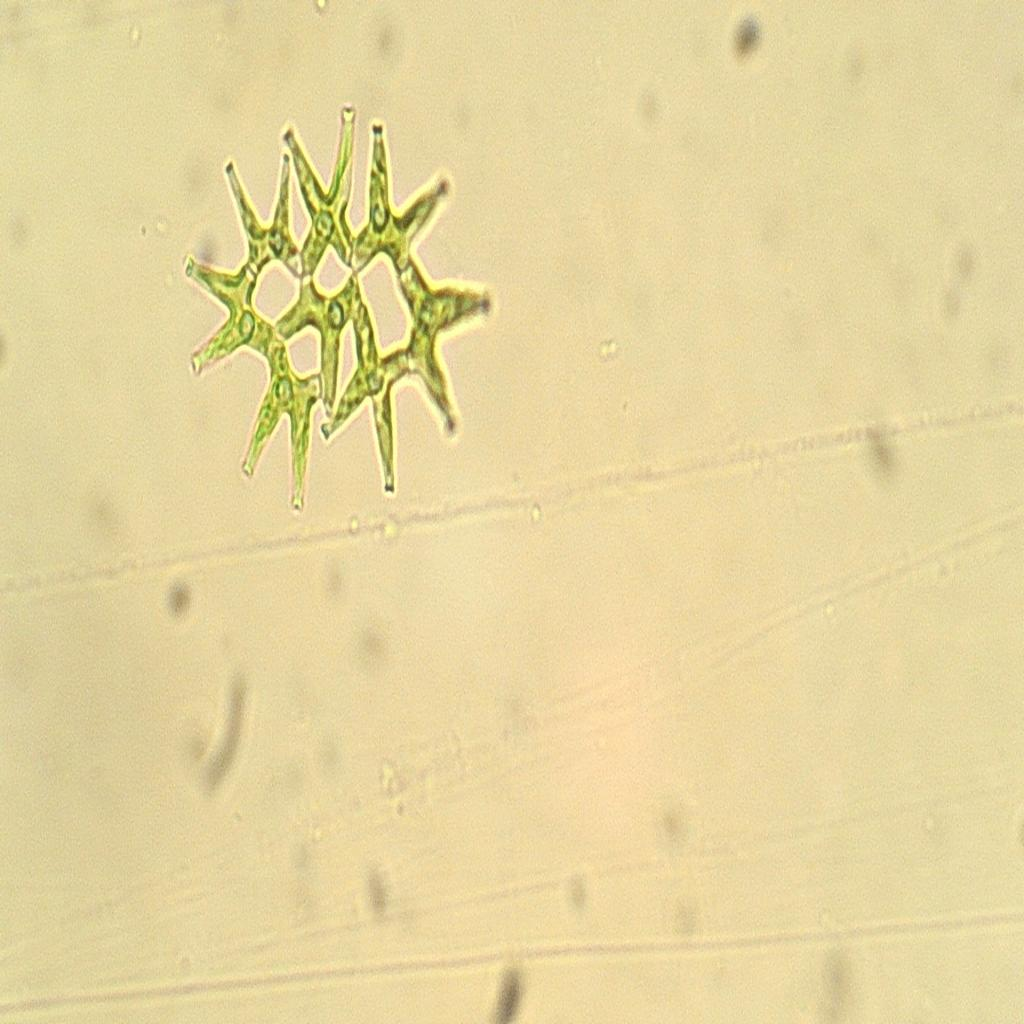Pediastrum_1TH: (155, 76, 525, 530)
